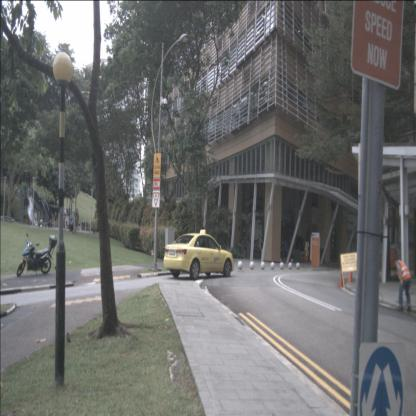cone: (337, 267, 345, 288), (348, 264, 353, 284)
